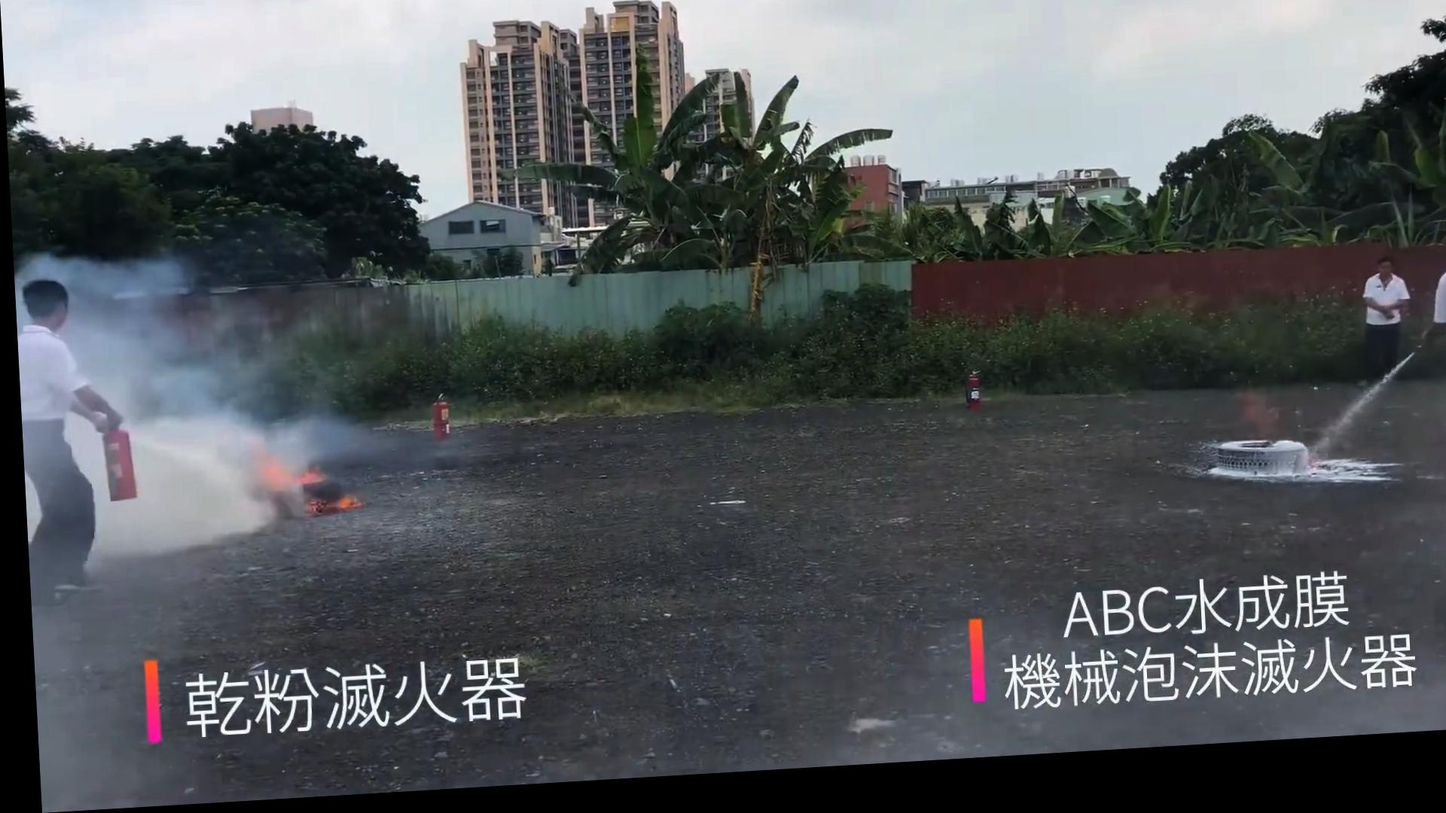FireExtinguisher: (86, 426, 139, 512), (414, 392, 453, 459), (952, 383, 985, 431)
